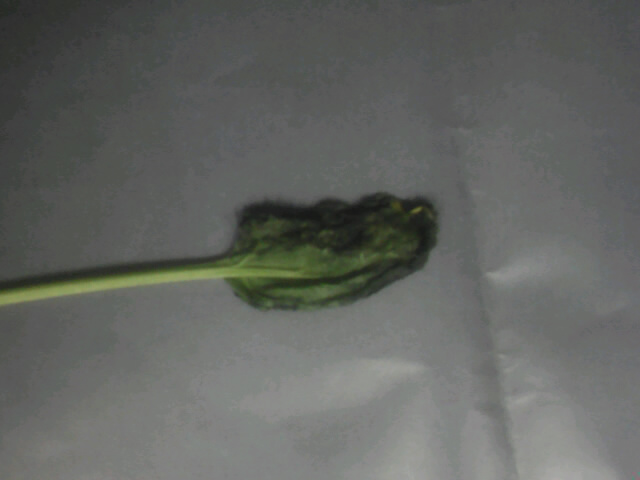yellow: (127, 195, 454, 321)
